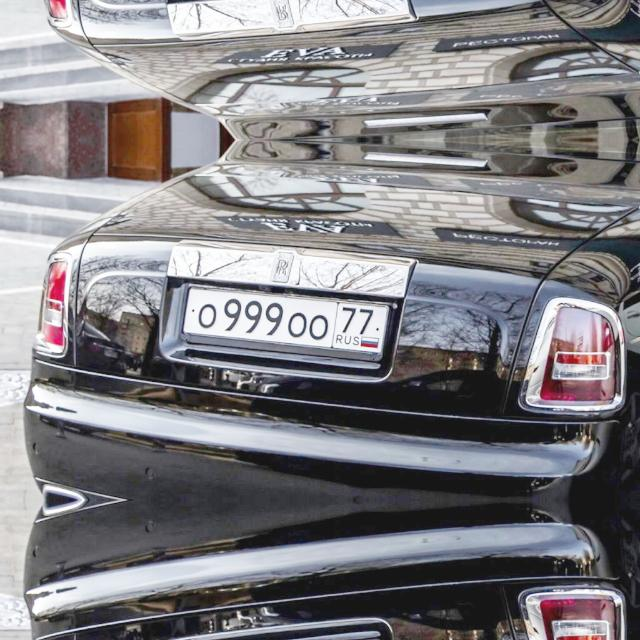citizen: (180, 279, 392, 365)
